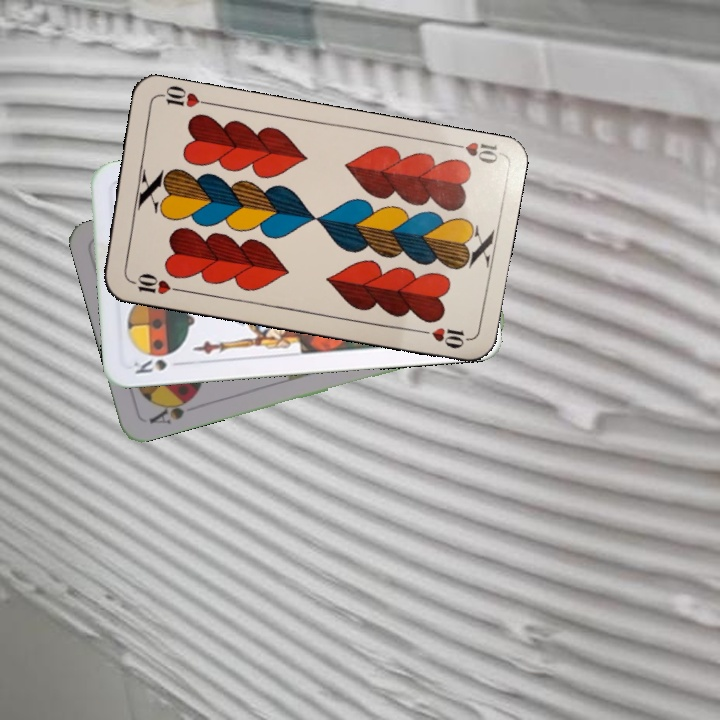H10: (443, 137, 502, 166), (125, 269, 184, 297)
SA: (145, 391, 198, 427)
SK: (129, 355, 170, 377)
